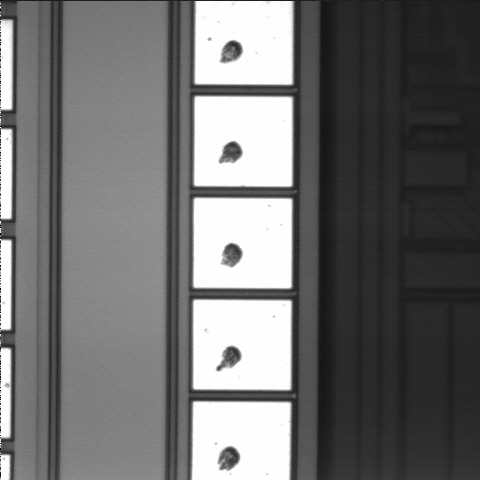pad: (194, 96, 292, 186), (194, 198, 292, 288), (193, 300, 291, 390)
